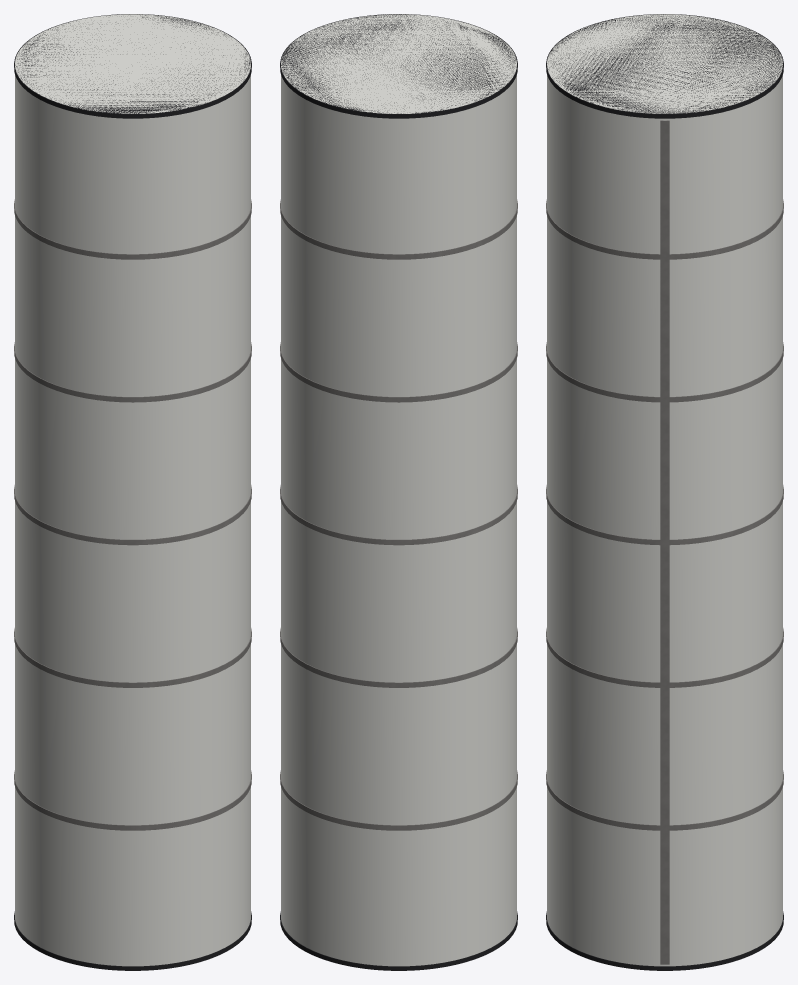
File: tank13_tank_length_series_xxl.glb
3 renders of one model, left to right at view 1: azimuth 30°, elevation 25°; view 2: azimuth 150°, elevation 25°; view 3: azimuth 270°, elevation 25°, orthographic.
Visible parts, largest first — view 1: tank, ring_frames, stack_flanges; view 2: tank, stack_flanges, ring_frames; view 3: tank, stack_flanges, feedline, ring_frames.
Boxes of the visible parts, left/top/right/bottom form: tank: left=15, top=14, right=250, bottom=966; ring_frames: left=14, top=199, right=251, bottom=830; stack_flanges: left=14, top=14, right=251, bottom=970; tank: left=281, top=14, right=516, bottom=966; stack_flanges: left=280, top=14, right=517, bottom=970; ring_frames: left=280, top=199, right=517, bottom=830; tank: left=547, top=14, right=782, bottom=966; stack_flanges: left=546, top=14, right=783, bottom=970; feedline: left=660, top=120, right=669, bottom=964; ring_frames: left=546, top=199, right=783, bottom=830.
Bounding box in the file's own units: 7.54 × 30 × 7.55.
3 materials, 1 textured.
